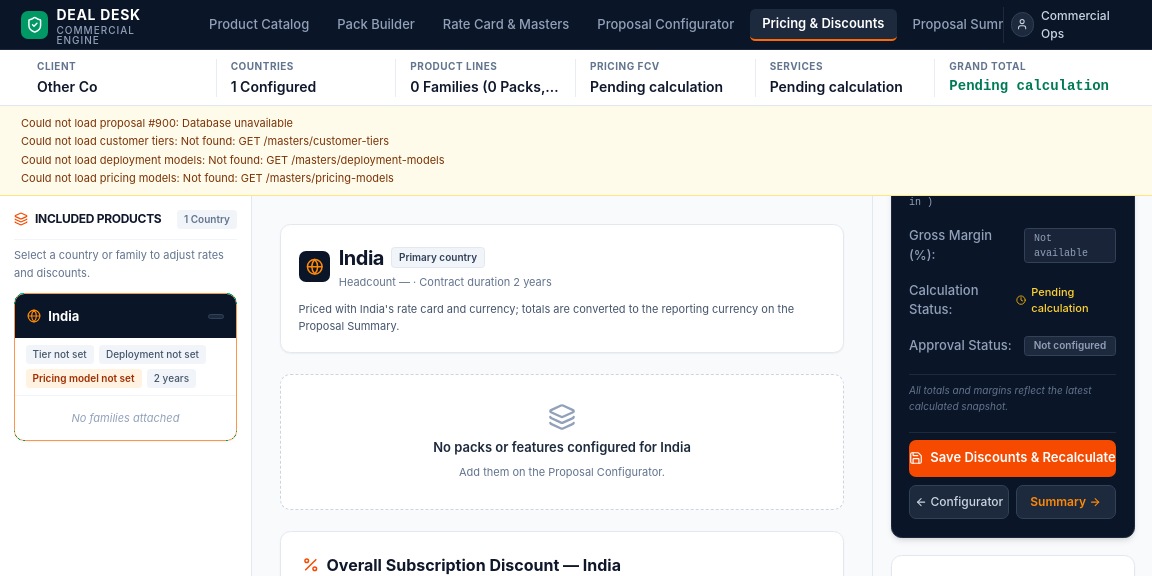
Test case: Page 5 — Pricing & Discounts › blocks saving when this proposal’s discounts did not load
(page scrolled)
Expected: the text "Could not load proposal #900: Database unavailable" is shown, [21,116,293,130]
Click the button "Save Discounts & Recalculate": {"x": 1012, "y": 458} [909,440,1116,476]
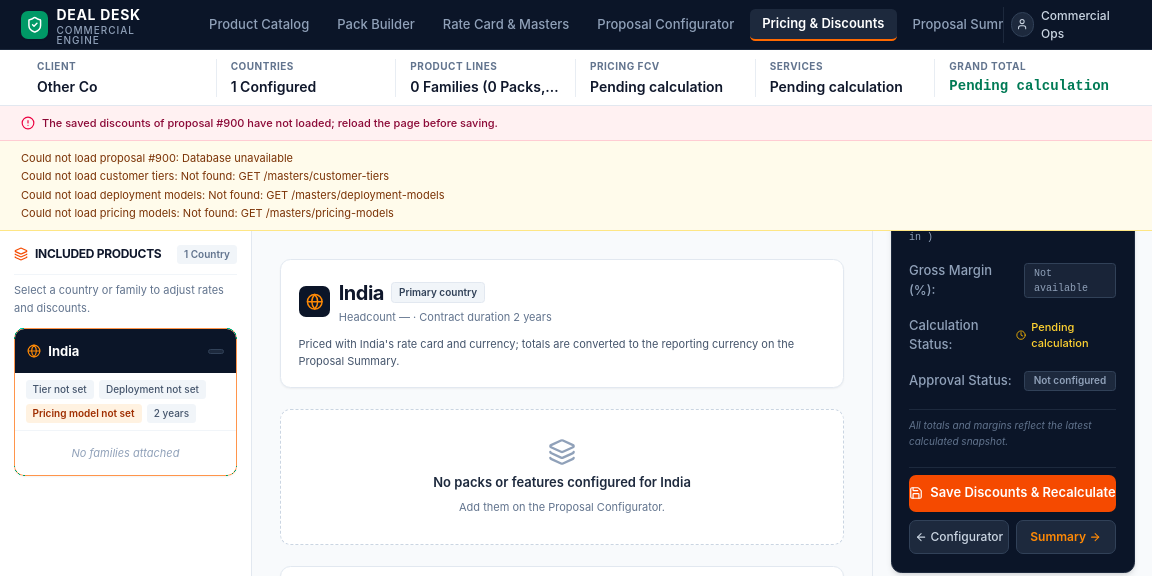
Result: the text "saved discounts of proposal #900 have not loaded" is shown at [42,116,498,130]
